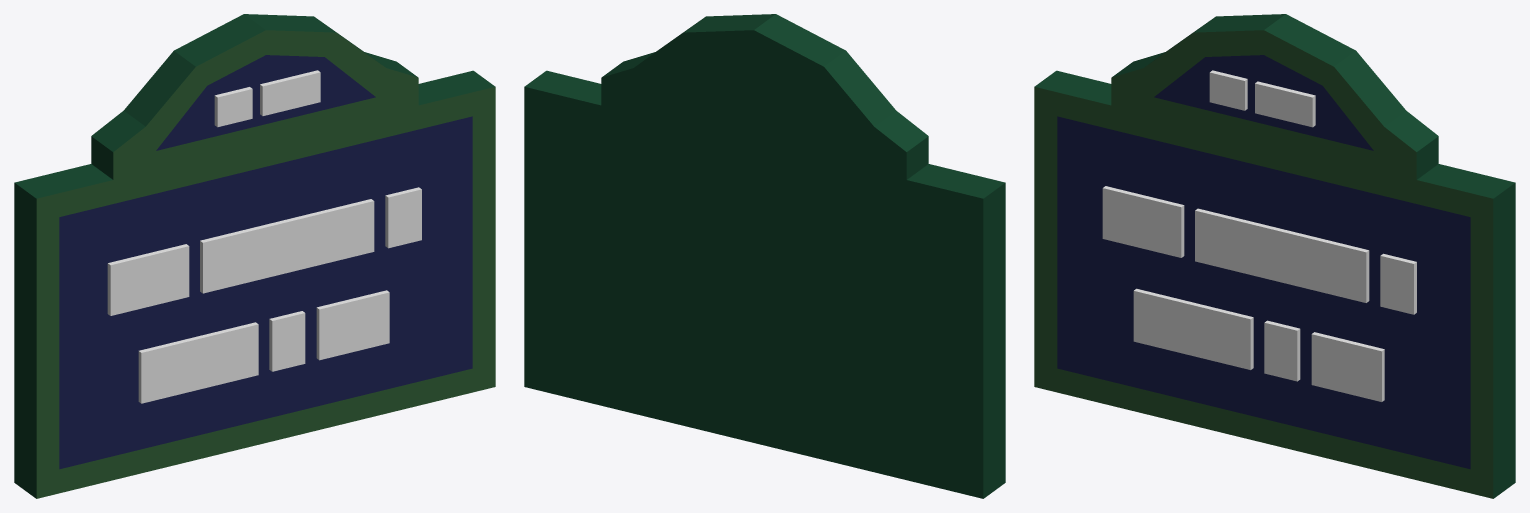
Rendered from TB_CITY_Prop_SignWall.FBX.
The picture shows the model from 3 angles, left to right: view 1: azimuth 30°, elevation 25°; view 2: azimuth 150°, elevation 25°; view 3: azimuth 330°, elevation 25°; orthographic projection.
Visible parts, largest first — view 1: TB_CITY_Prop_SignWall; view 2: TB_CITY_Prop_SignWall; view 3: TB_CITY_Prop_SignWall.
Boxes of the visible parts, x1,y1,x2,y2 form: TB_CITY_Prop_SignWall: (14, 14, 495, 498); TB_CITY_Prop_SignWall: (524, 14, 1005, 498); TB_CITY_Prop_SignWall: (1034, 14, 1515, 498).
Size of the model in its own units: 1.45 by 1.24 by 0.1365.
